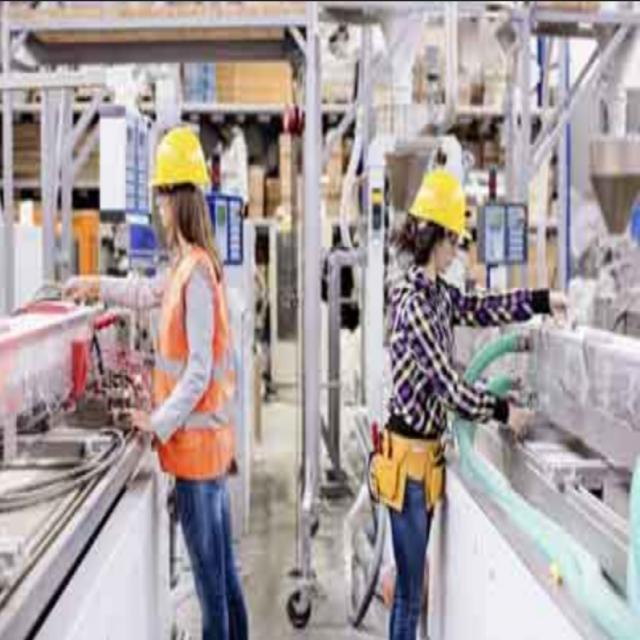Reflective-Jacket: (142, 242, 239, 490)
Safety-Helmet: (399, 154, 480, 256), (141, 116, 218, 205)
